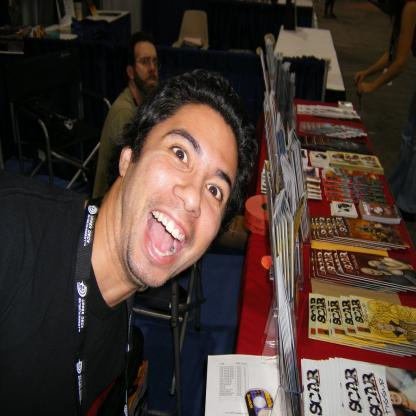book: (258, 37, 416, 416)
